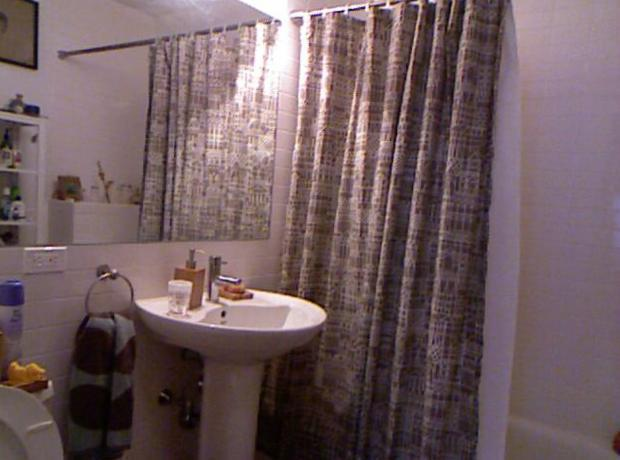Ducha: (296, 13, 613, 455)
Lavamanos: (131, 257, 328, 459)
